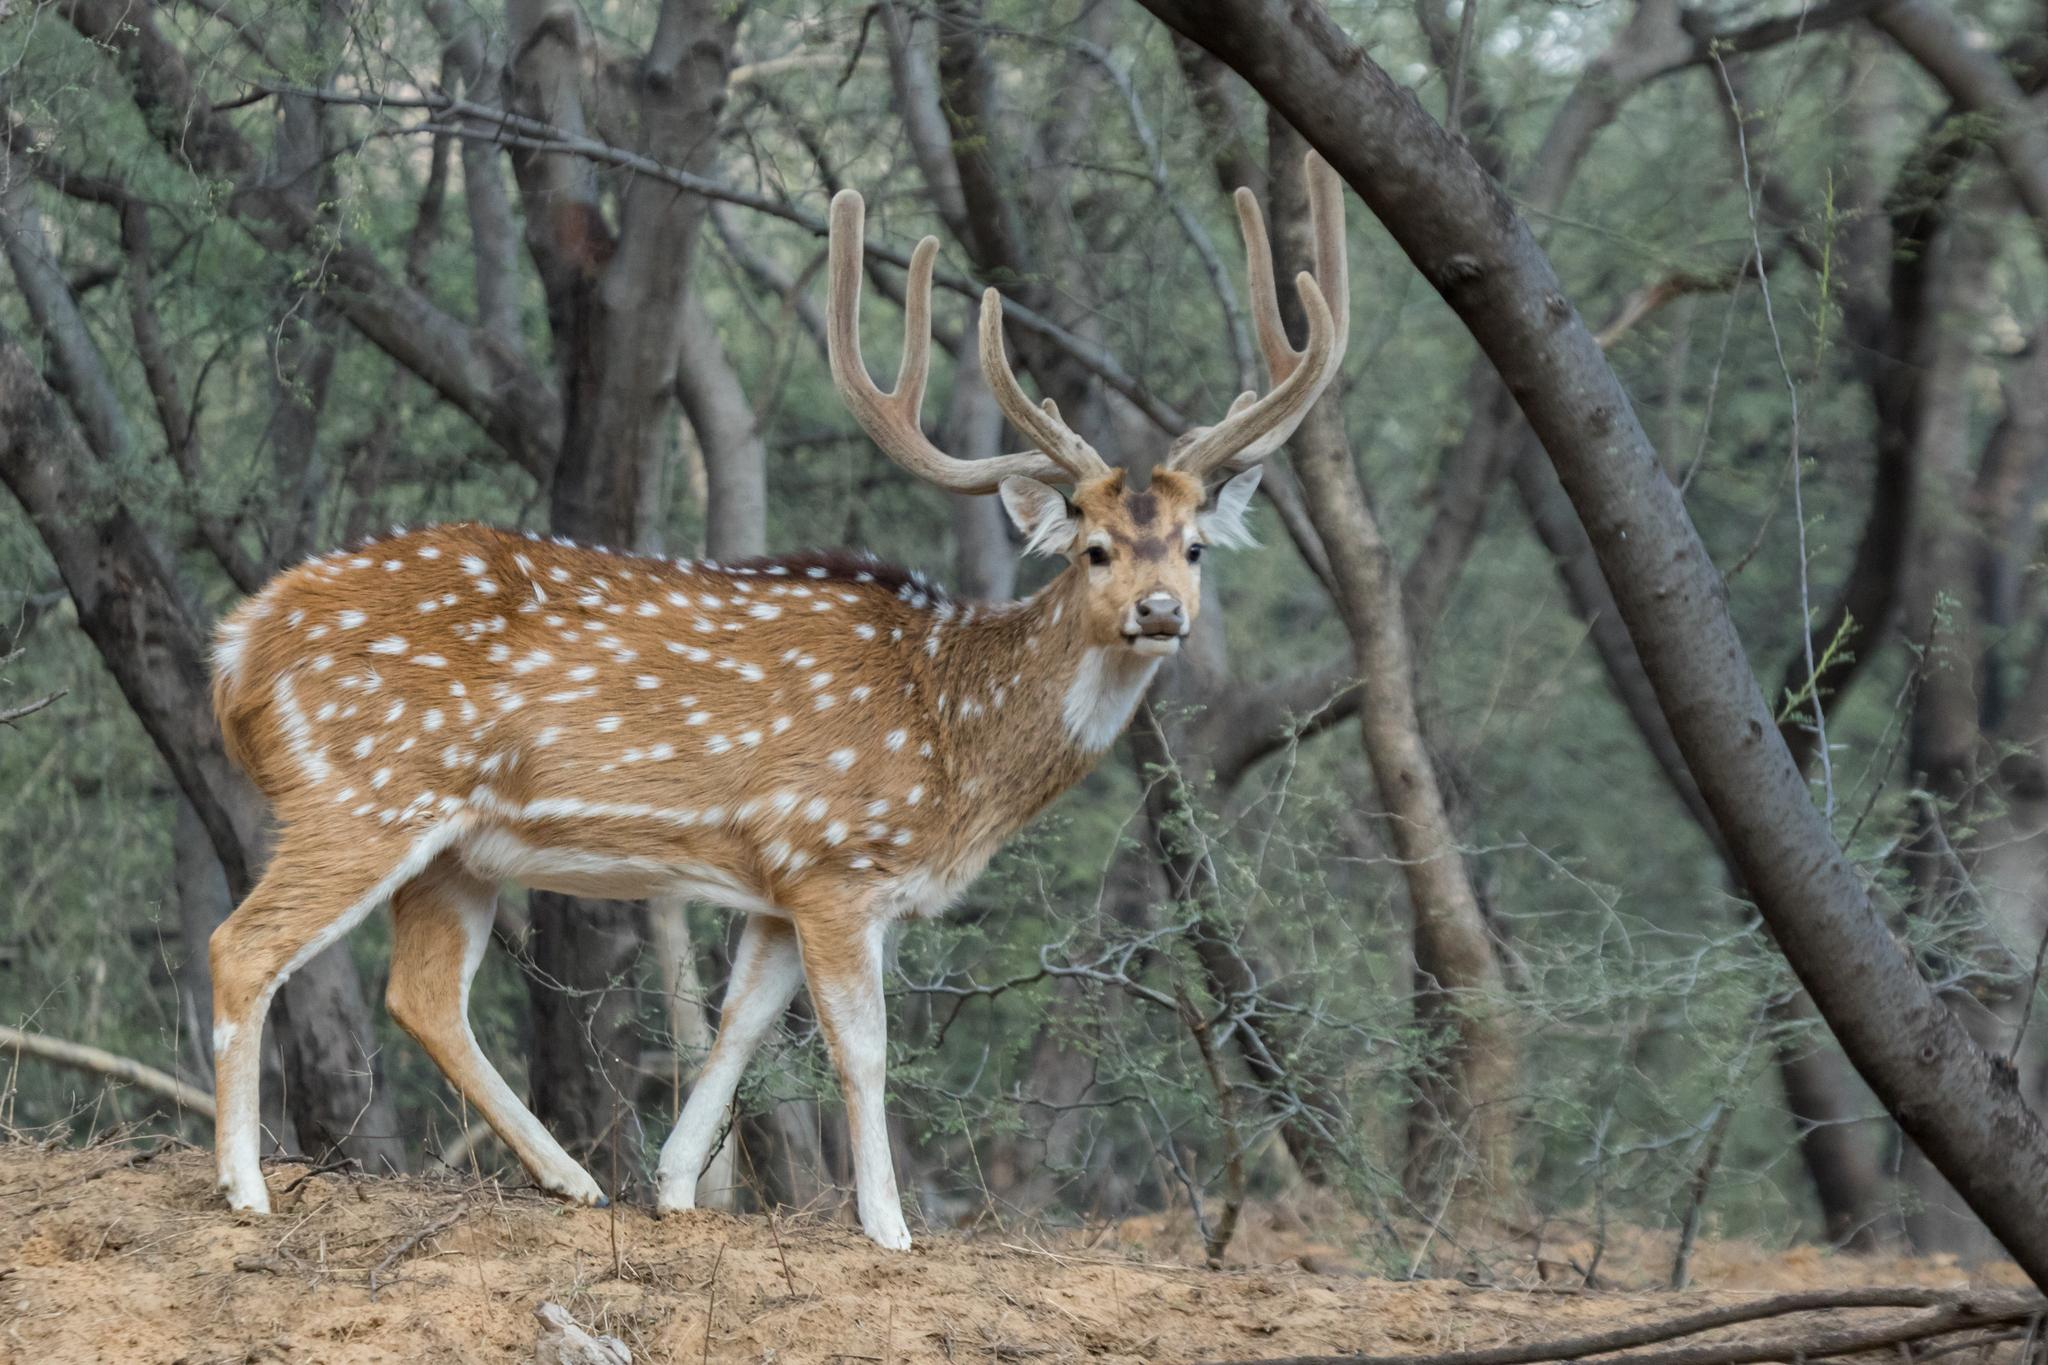Deer: (210, 154, 1348, 1248)
